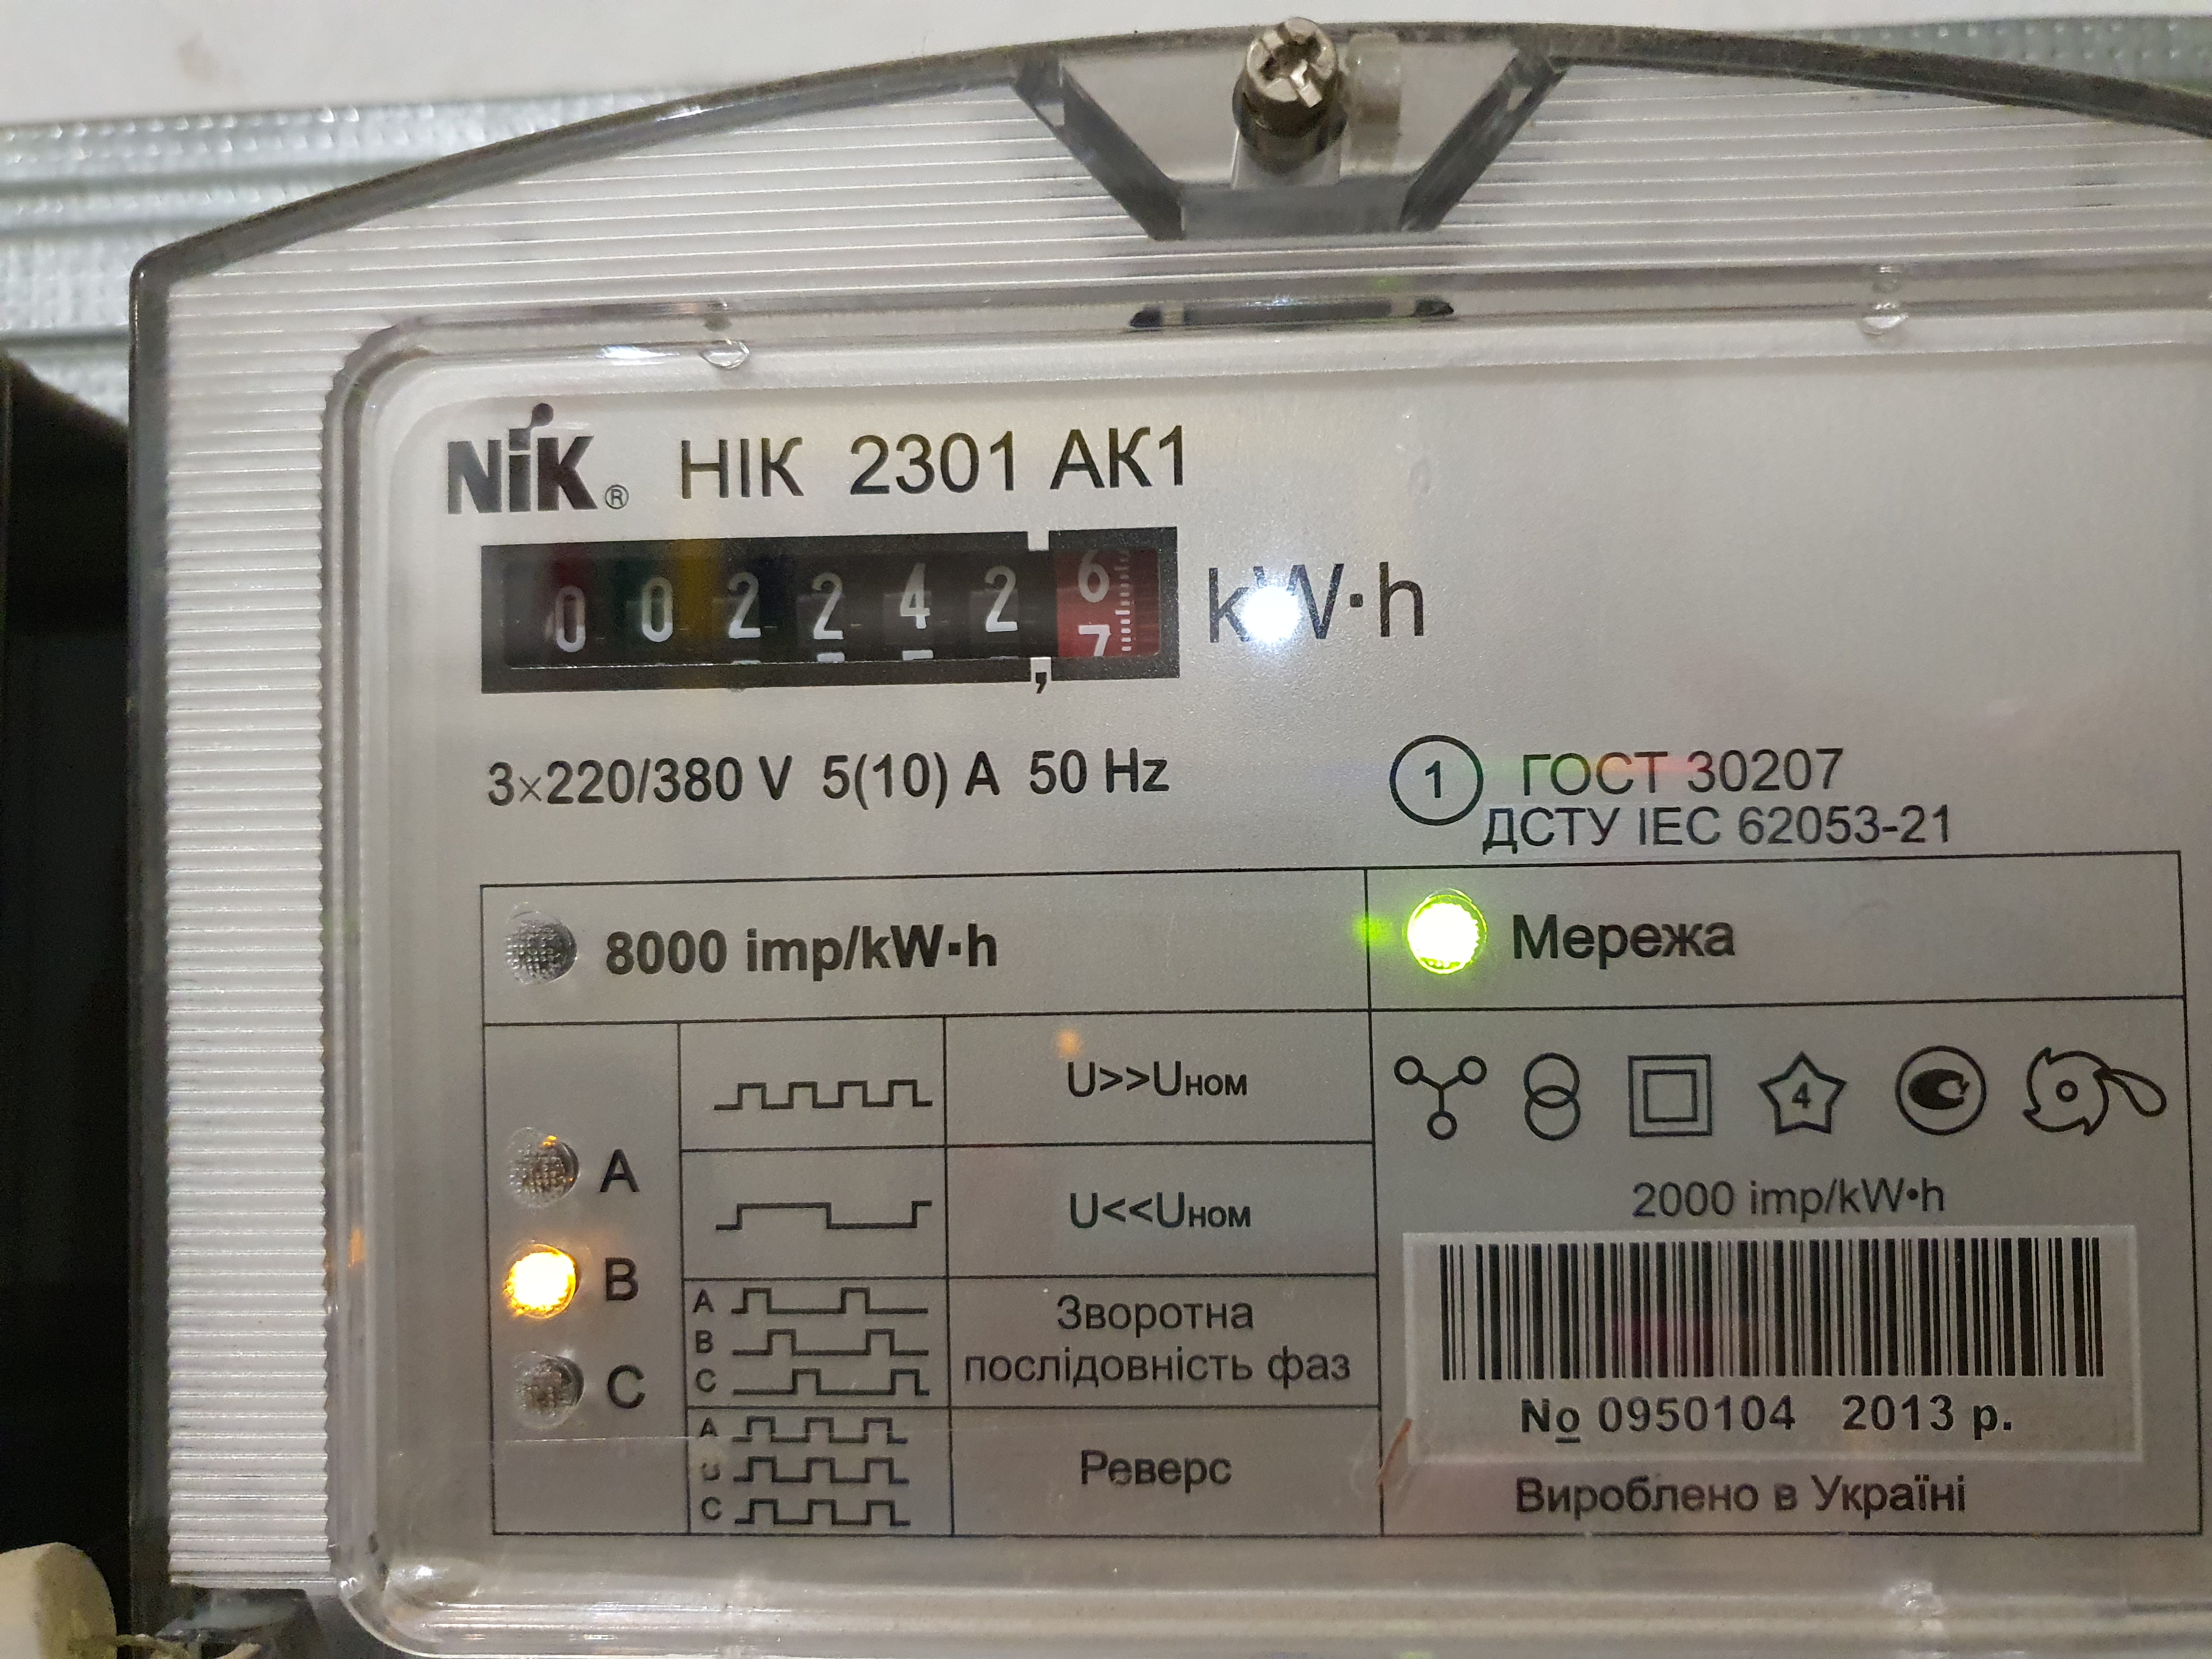0: (634, 572, 678, 645), (552, 580, 590, 657), (725, 568, 765, 641)
2: (979, 561, 1022, 638), (808, 568, 850, 645)
4: (894, 558, 934, 634)
6: (1073, 547, 1115, 605)
7: (1075, 620, 1115, 659)
screen: (463, 509, 1209, 720)
